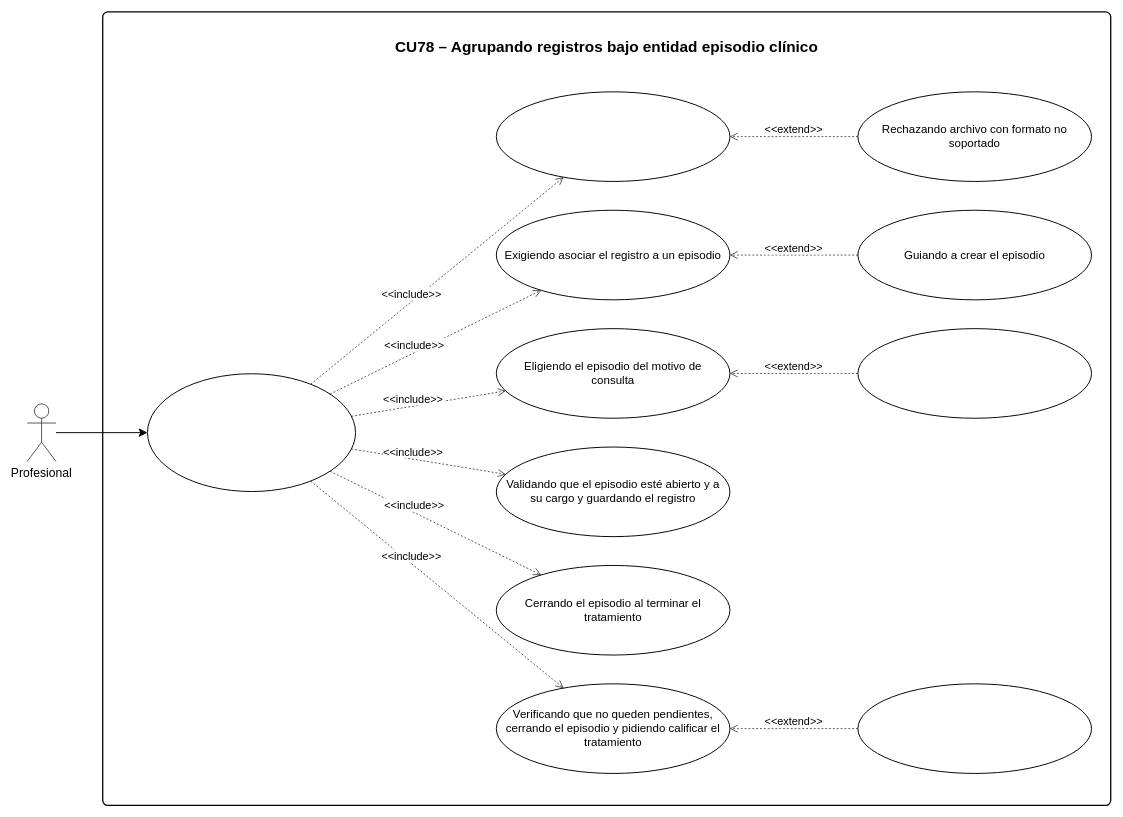
Image size: 1123x817. Some labels were removed from this diagram. Each missing label, with the centre of its shape:
Agrupando registros bajo entidad episodio clínico: the point at 251,432
Guardando una sesión, una pauta o un documento: the point at 613,136
Impidiendo asociación a episodio cerrado o de otro profesional: the point at 974,373
Informando pendientes o fallo al guardar el cierre: the point at 974,728
